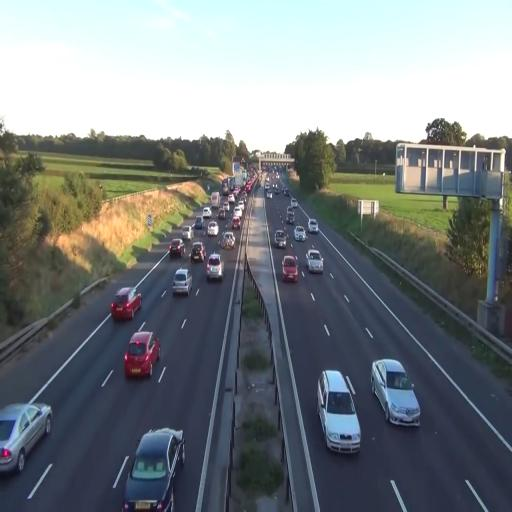vehicle: (122, 426, 185, 510), (316, 369, 362, 456), (0, 401, 52, 477), (371, 358, 421, 427), (124, 328, 160, 379), (110, 286, 142, 323), (172, 267, 192, 298), (206, 253, 224, 282), (281, 254, 299, 283), (306, 248, 324, 274), (189, 242, 205, 266), (169, 239, 184, 260), (273, 229, 288, 249), (222, 230, 236, 250), (232, 208, 243, 229), (206, 219, 218, 238), (309, 219, 319, 233)
